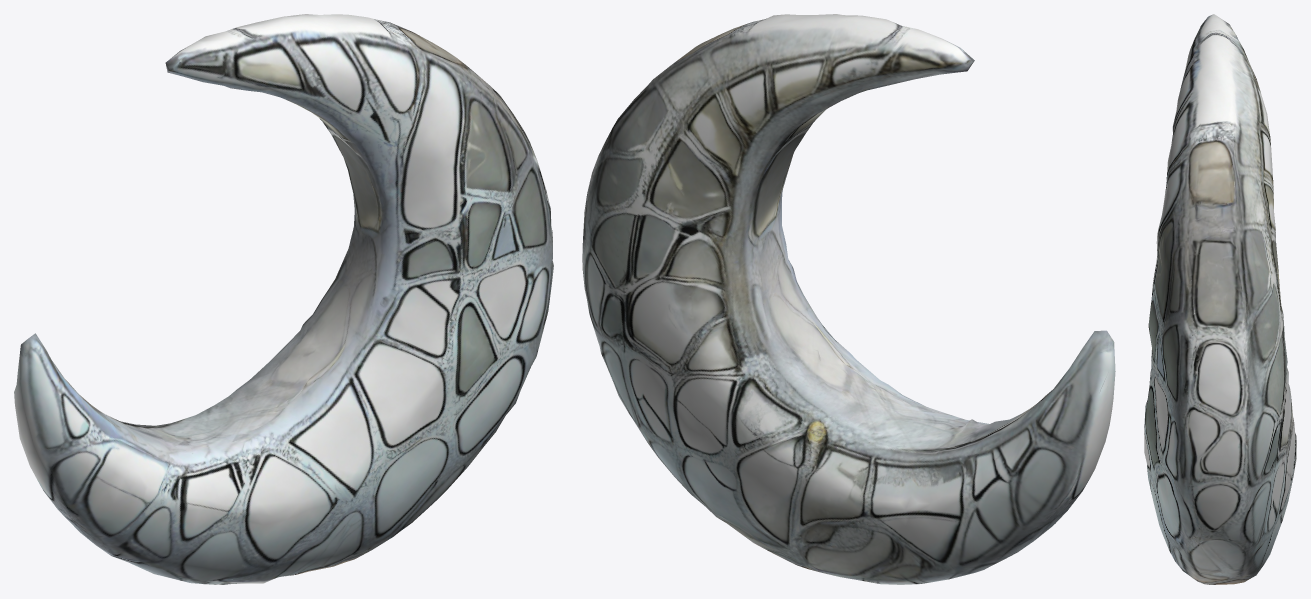
The model's file is testMoonSilver.glb.
3 views of the same model, side by side, from view 1: azimuth 30°, elevation 25°; view 2: azimuth 150°, elevation 25°; view 3: azimuth 270°, elevation 25° (orthographic). The views are drawn at different scales.
Visible parts, largest first — view 1: Mesh_0; view 2: Mesh_0; view 3: Mesh_0.
Part boxes in pixels (x1,y1,x2,y2): Mesh_0: (14, 14, 553, 584); Mesh_0: (582, 14, 1115, 584); Mesh_0: (1144, 14, 1296, 584).
Size of the model in its own units: 0.9795 by 1 by 0.2735.
Materials: 1 (1 with a texture image).
